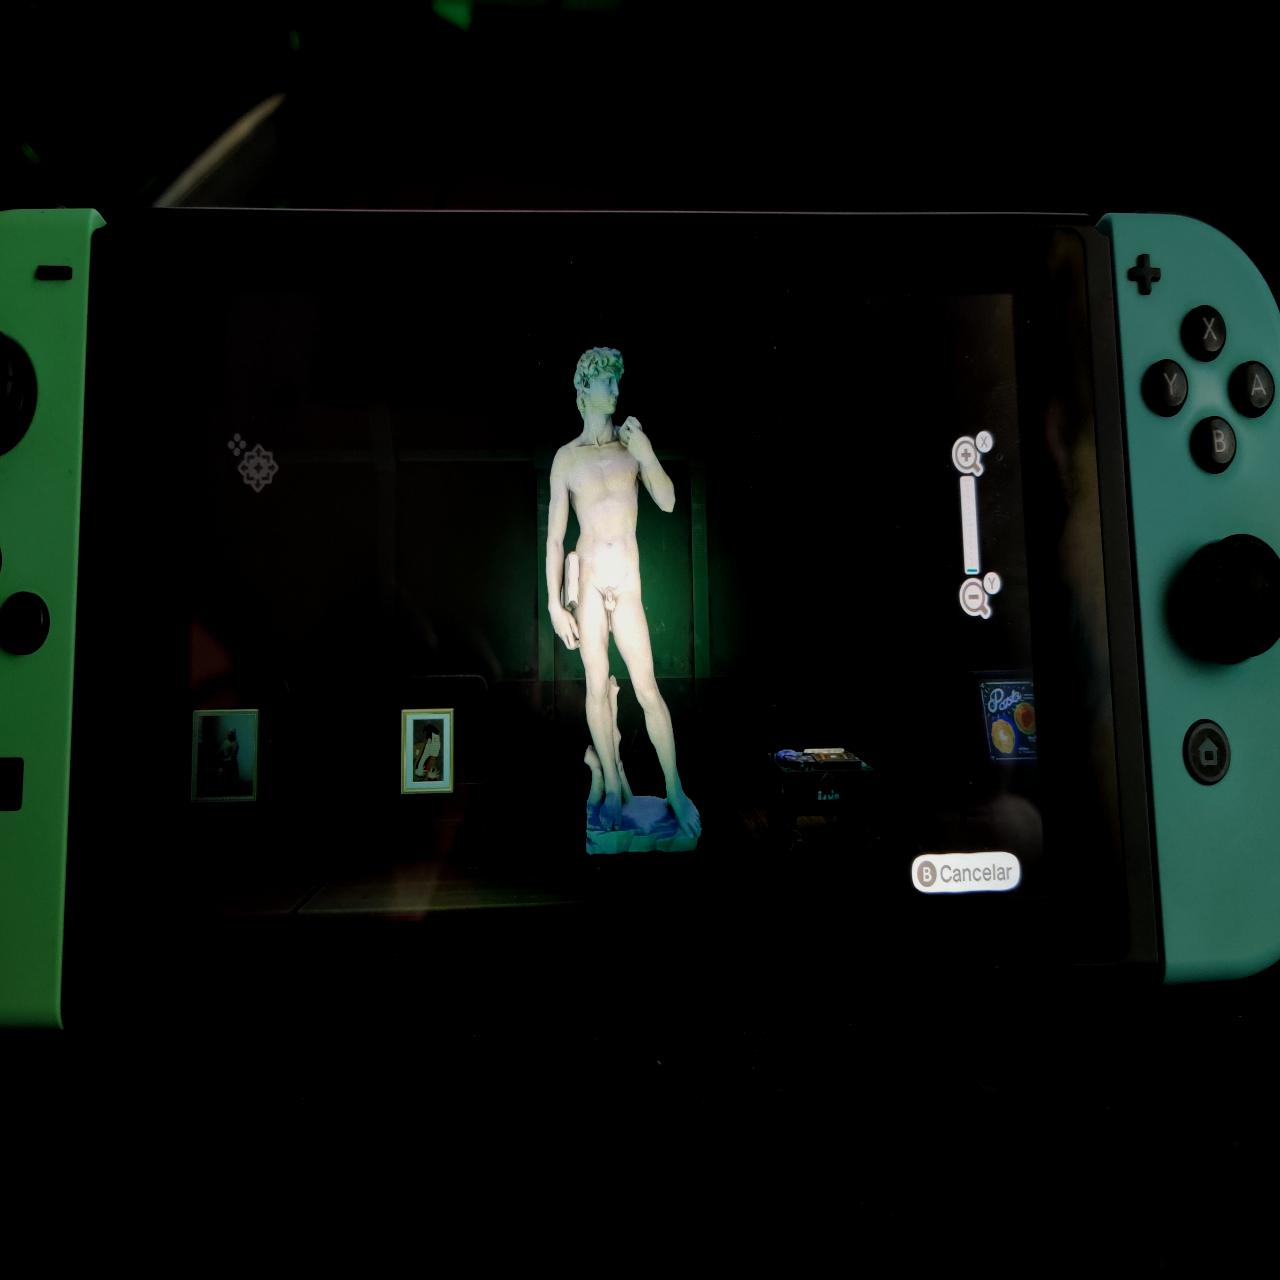DavidFake: (546, 340, 707, 852)
OotaniOnijiFake: (413, 719, 445, 782)
